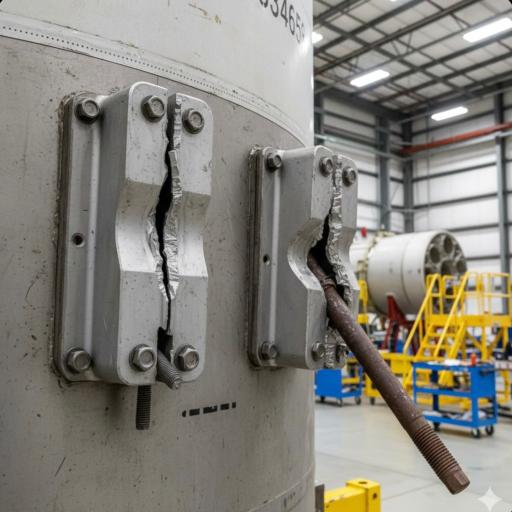fastening crack: (124, 98, 210, 399), (284, 151, 396, 378)
